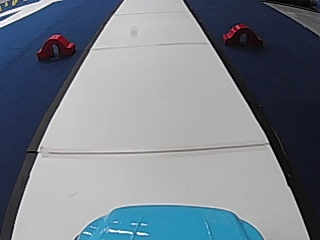bridge: (221, 20, 264, 48), (35, 31, 76, 60)
